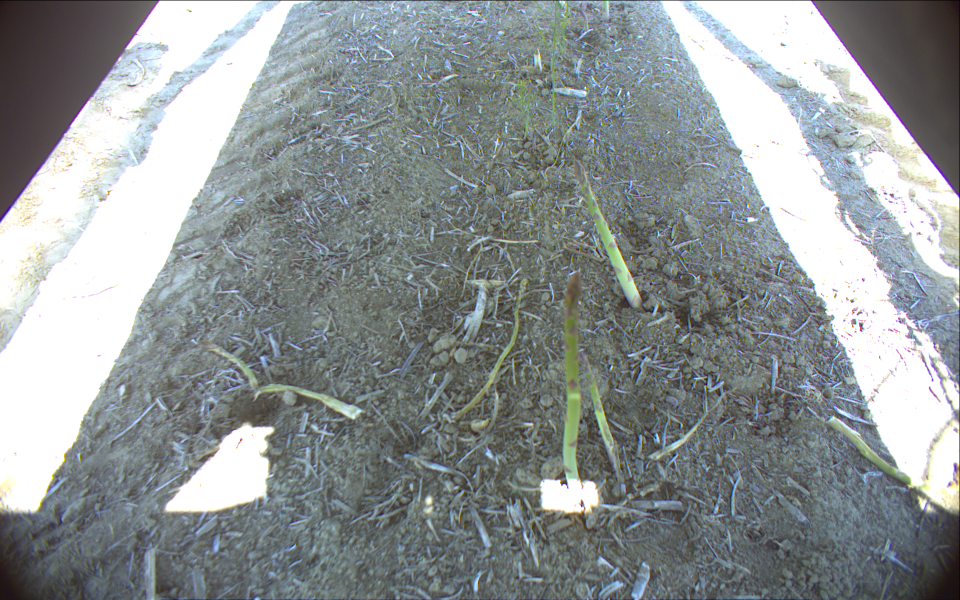aspa: (568, 159, 643, 308), (559, 267, 582, 498)
